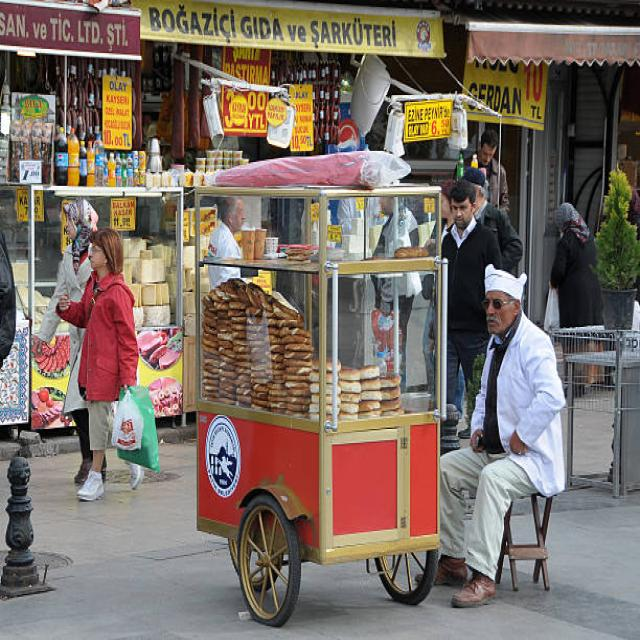Emperan: (181, 137, 576, 634)
